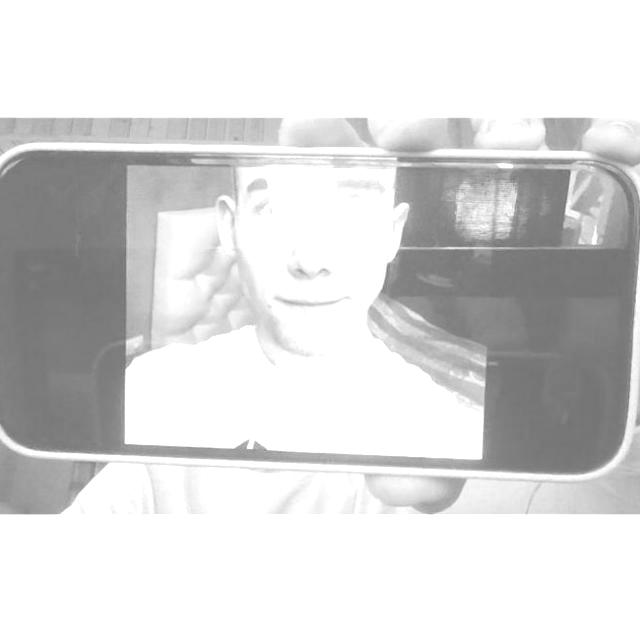fake: (0, 150, 634, 470)
